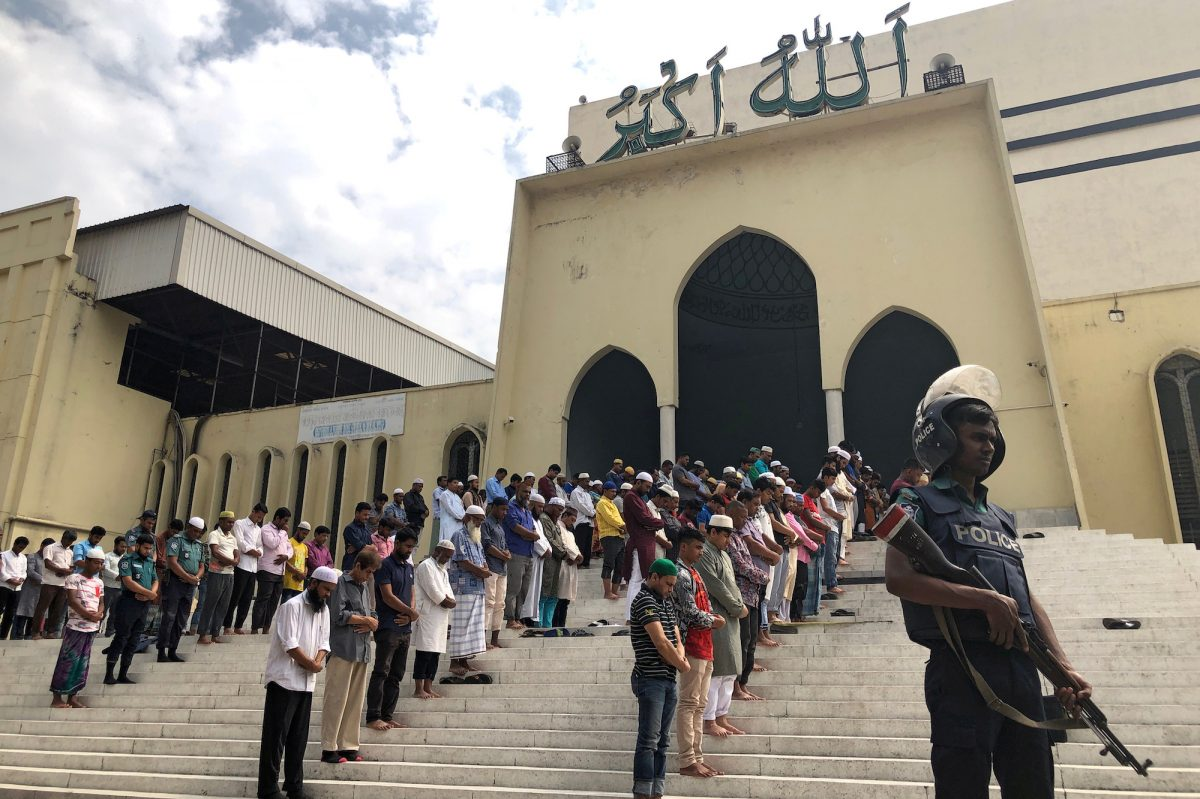person: (883, 401, 1059, 791), (256, 563, 339, 796), (369, 528, 421, 739), (628, 559, 673, 797), (673, 532, 716, 773), (60, 550, 108, 709), (340, 544, 372, 763), (705, 519, 737, 735), (115, 537, 160, 686), (729, 504, 760, 704), (453, 509, 486, 687), (167, 518, 206, 668), (420, 539, 456, 701), (232, 504, 272, 633), (255, 509, 296, 634), (34, 529, 80, 638), (483, 501, 512, 648), (537, 497, 565, 630), (211, 511, 236, 647), (597, 477, 622, 607), (820, 470, 845, 595), (509, 487, 531, 628), (527, 498, 547, 632), (627, 472, 658, 558), (561, 509, 583, 628), (285, 519, 315, 603), (574, 473, 595, 565), (344, 502, 373, 563), (72, 527, 109, 566), (309, 523, 335, 573), (430, 473, 448, 540), (123, 512, 165, 540), (441, 475, 460, 536), (799, 484, 826, 526), (672, 449, 692, 491), (409, 476, 425, 526), (486, 465, 507, 499), (737, 491, 763, 518), (752, 478, 775, 508), (540, 463, 560, 496), (463, 473, 482, 505), (110, 531, 129, 561), (375, 518, 395, 546), (391, 486, 405, 522), (651, 485, 668, 514), (164, 516, 183, 537), (682, 498, 699, 520), (606, 456, 623, 477), (664, 491, 680, 512), (660, 460, 673, 484), (759, 446, 770, 472), (375, 490, 386, 515), (784, 491, 793, 513), (776, 481, 785, 501)
